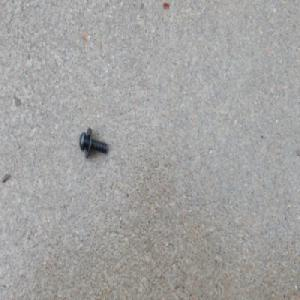BoltWasher: (79, 128, 108, 162)
